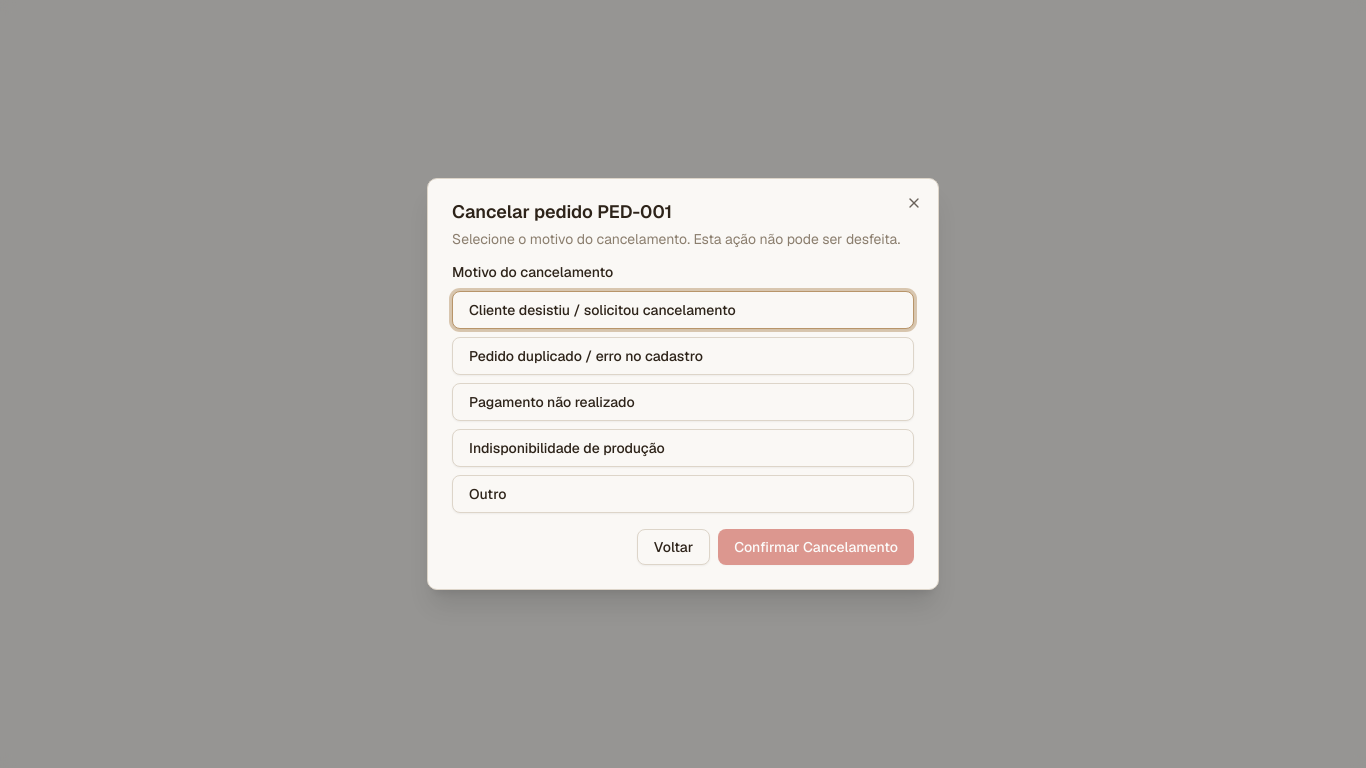
Test: CancelPedidoDialog › enables confirm once a preset reason is selected
Click the button "Pagamento não realizado" at (552, 402), box [452, 383, 914, 421]
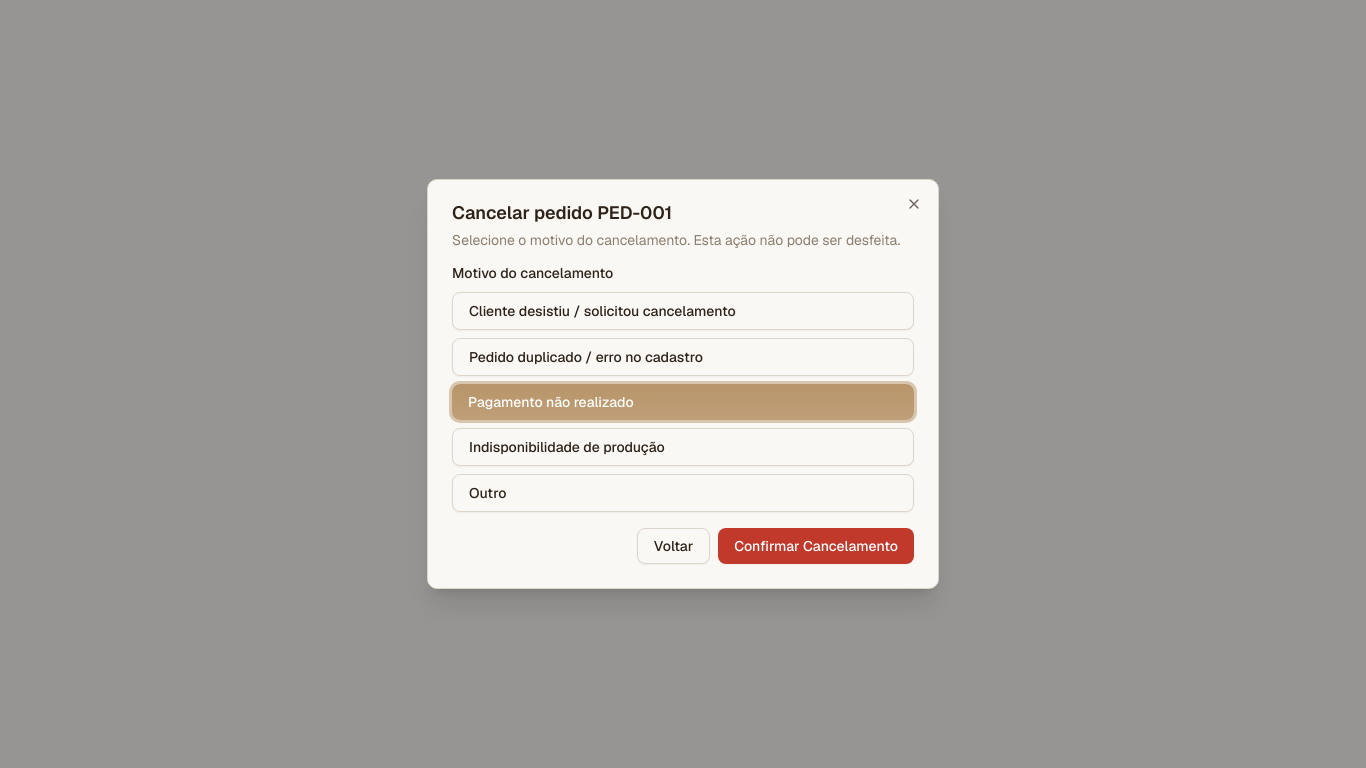
Result: the button "Confirmar Cancelamento" is enabled at [718, 528, 914, 564]
